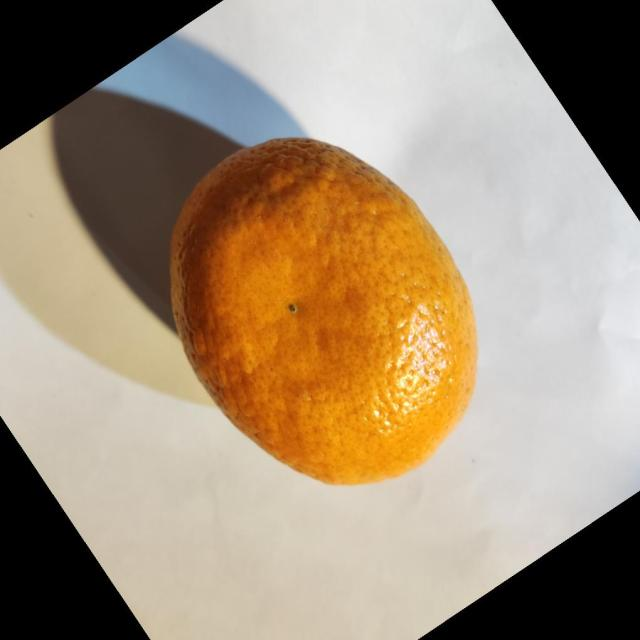fresh orange: (168, 135, 478, 486)
